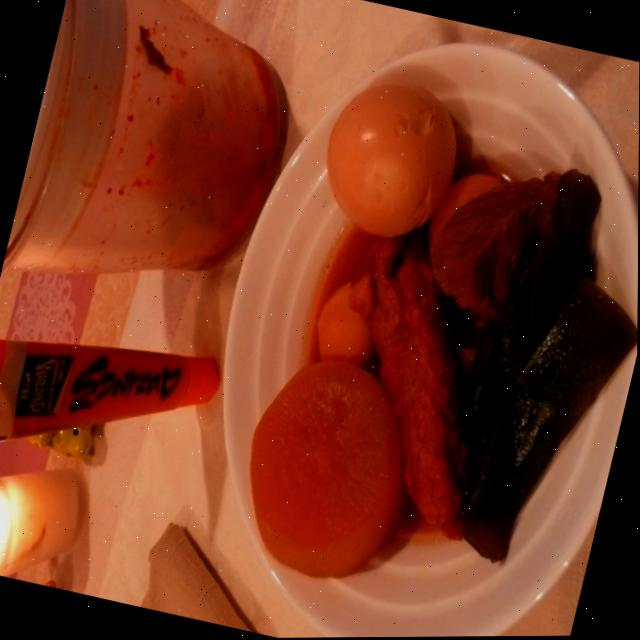汤锅炖物: (221, 63, 640, 639)
